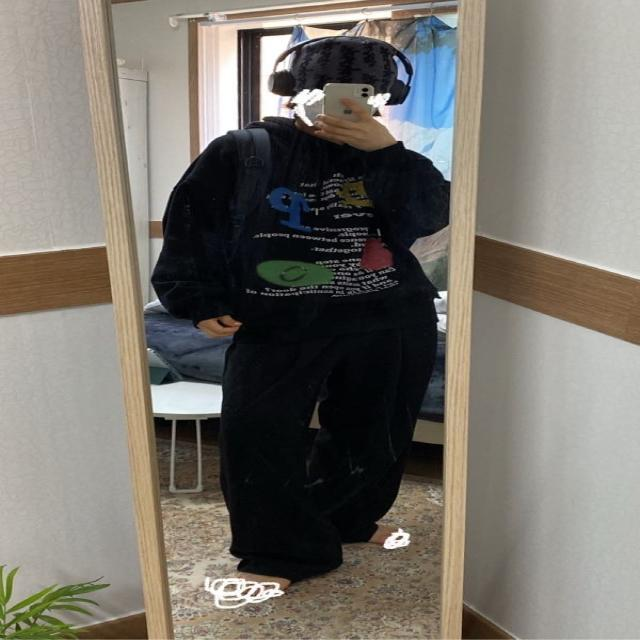denimpants: (215, 310, 445, 587)
hoodies: (149, 113, 459, 325)
